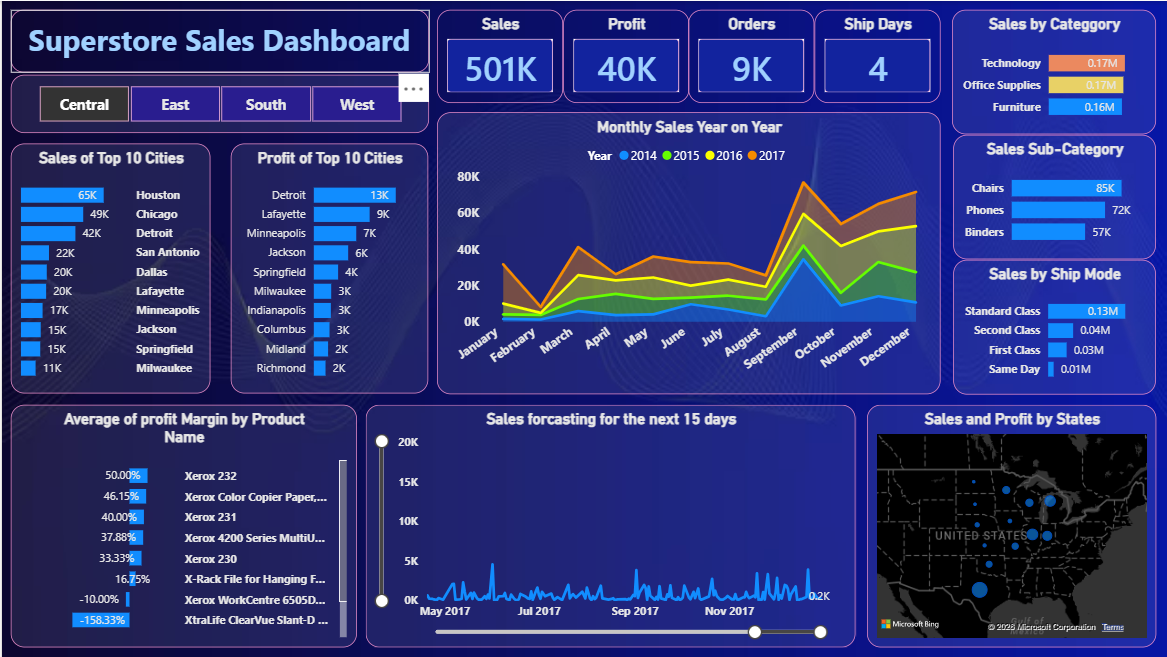

Layout of this report page (visuals, bound fields, positions):
{"tool":"powerbi","page":{"name":"Page 1","canvas":[1280,720],"ordinal":0},"visuals":[{"type":"cardVisual","title":"Sales","fields":{"Data":["Sum(Sample - Superstore.Sales)"]},"box":[477.5,10,138.3,102.6],"z":0},{"type":"clusteredBarChart","title":"Sales by Categgory","fields":{"Category":["Sample - Superstore.Category"],"Y":["Sum(Sample - Superstore.Sales)"]},"box":[1043.4,10,223.8,136.8],"z":1000},{"type":"clusteredBarChart","title":"Sales Sub-Category","fields":{"Category":["Sample - Superstore.Sub-Category"],"Y":["Sum(Sample - Superstore.Sales)"]},"box":[1044.8,146.8,222.4,136.8],"z":2000},{"type":"slicer","fields":{"Values":["Sample - Superstore.Region"]},"box":[10,81.2,459,64.1],"z":3000},{"type":"clusteredBarChart","title":"Sales by Ship Mode","fields":{"Category":["Sample - Superstore.Ship Mode","Sample - Superstore.Sub-Category"],"Y":["Sum(Sample - Superstore.Sales)"]},"box":[1044.8,283.7,222.4,148.2],"z":4000},{"type":"stackedAreaChart","title":"Monthly Sales Year on Year","fields":{"Y":["Sum(Sample - Superstore.Sales)"],"Category":["Sample - Superstore.Order Date.Variation.Date Hierarchy.Month"],"Series":["Sample - Superstore.Order Date.Variation.Date Hierarchy.Year"]},"box":[477.5,122.6,553.1,309.3],"z":5000},{"type":"textbox","box":[10,10,459,68.4],"z":6000},{"type":"map","title":"Sales and Profit by States","fields":{"Category":["Sample - Superstore.State"],"Size":["Sum(Sample - Superstore.Sales)"]},"box":[949.3,443.3,317.9,266.5],"z":7000},{"type":"cardVisual","title":"Profit","fields":{"Data":["Sum(Sample - Superstore.Profit)"]},"box":[615.8,10,138.3,102.6],"z":8000},{"type":"cardVisual","title":"Orders","fields":{"Data":["Sum(Sample - Superstore.Quantity)"]},"box":[754,10,138.3,102.6],"z":9000},{"type":"cardVisual","title":"Ship Days","fields":{"Data":["Avg(Sample - Superstore.Avg-Delivery)"]},"box":[892.3,10,138.3,102.6],"z":10000},{"type":"clusteredBarChart","title":"Sales of Top 10 Cities","fields":{"Y":["Sum(Sample - Superstore.Sales)"],"Category":["Sample - Superstore.City"]},"box":[9.6,156.4,219.6,274.4],"z":11000},{"type":"clusteredBarChart","title":"Profit of Top 10 Cities","fields":{"Category":["Sample - Superstore.City"],"Y":["Sum(Sample - Superstore.Profit)"]},"box":[251.1,156.4,216.8,274.4],"z":12000},{"type":"lineChart","title":"Sales forcasting for the next 15 days","fields":{"Y":["Sum(Sample - Superstore.Sales)"],"Category":["Sample - Superstore.Order Date"]},"box":[399.3,443.2,537.9,266.2],"z":13000},{"type":"barChart","fields":{"Category":["Sample - Superstore.Product Name"],"Y":["Avg(Sample - Superstore.profit Margin)"]},"box":[9.6,443.2,380.1,266.2],"z":14000}]}

Visuals, with their boxes in screenshot pixels (x1, y1, x2, y2), scaled from the page's 1280x720 canvas onto the 1167x657 screenshot:
"Sales" cardVisual: region(435, 9, 561, 103)
"Sales by Categgory" clusteredBarChart: region(951, 9, 1155, 134)
"Sales Sub-Category" clusteredBarChart: region(953, 134, 1155, 259)
slicer - Sample - Superstore.Region: region(9, 74, 428, 133)
"Sales by Ship Mode" clusteredBarChart: region(953, 259, 1155, 394)
"Monthly Sales Year on Year" stackedAreaChart: region(435, 112, 940, 394)
textbox: region(9, 9, 428, 72)
"Sales and Profit by States" map: region(865, 405, 1155, 648)
"Profit" cardVisual: region(561, 9, 688, 103)
"Orders" cardVisual: region(687, 9, 814, 103)
"Ship Days" cardVisual: region(814, 9, 940, 103)
"Sales of Top 10 Cities" clusteredBarChart: region(9, 143, 209, 393)
"Profit of Top 10 Cities" clusteredBarChart: region(229, 143, 427, 393)
"Sales forcasting for the next 15 days" lineChart: region(364, 404, 854, 647)
barChart - Sample - Superstore.Product Name x Avg(Sample - Superstore.profit Margin): region(9, 404, 355, 647)
